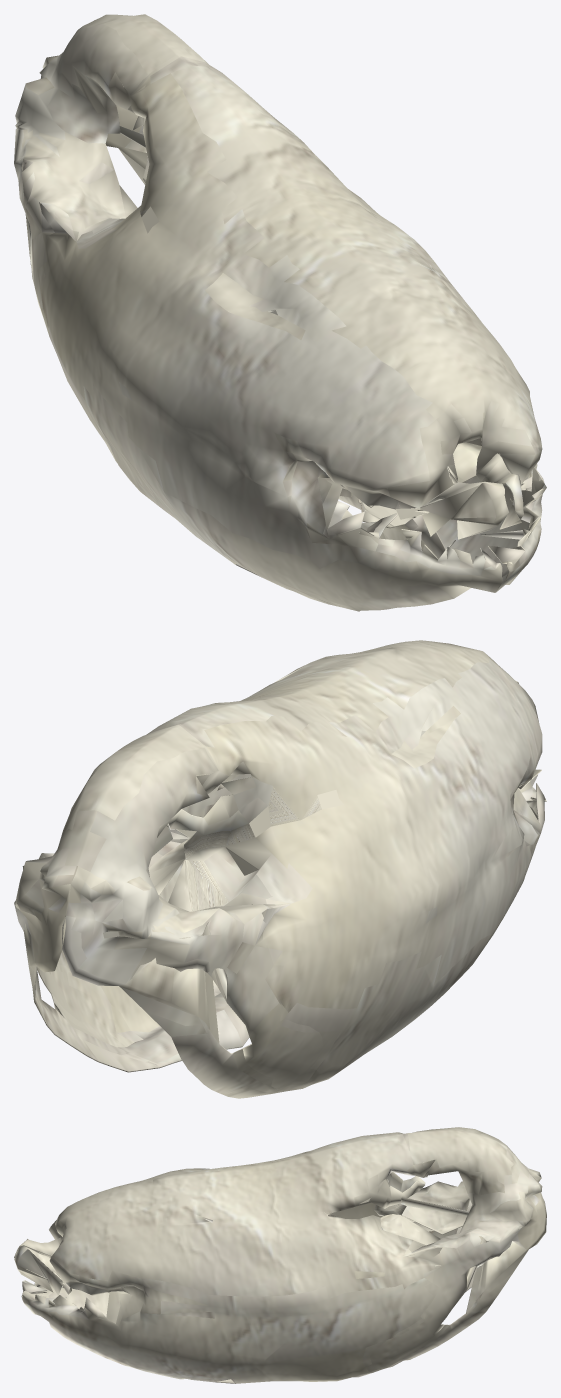
File: CoyoteSkull.fbx
The picture shows the model from 3 angles, top to bottom: view 1: azimuth 30°, elevation 25°; view 2: azimuth 150°, elevation 25°; view 3: azimuth 270°, elevation 25°; orthographic projection. The views are drawn at different scales.
Parts seen in each view (by area): view 1: Coyote Skull; view 2: Coyote Skull; view 3: Coyote Skull.
Part boxes in pixels (x1=…): Coyote Skull: x1=14, y1=14, x2=546, y2=611; Coyote Skull: x1=14, y1=640, x2=546, y2=1098; Coyote Skull: x1=14, y1=1127, x2=546, y2=1383.
Bounding box in the file's own units: 13.37 × 16.22 × 33.57.
1 material, 1 textured.
